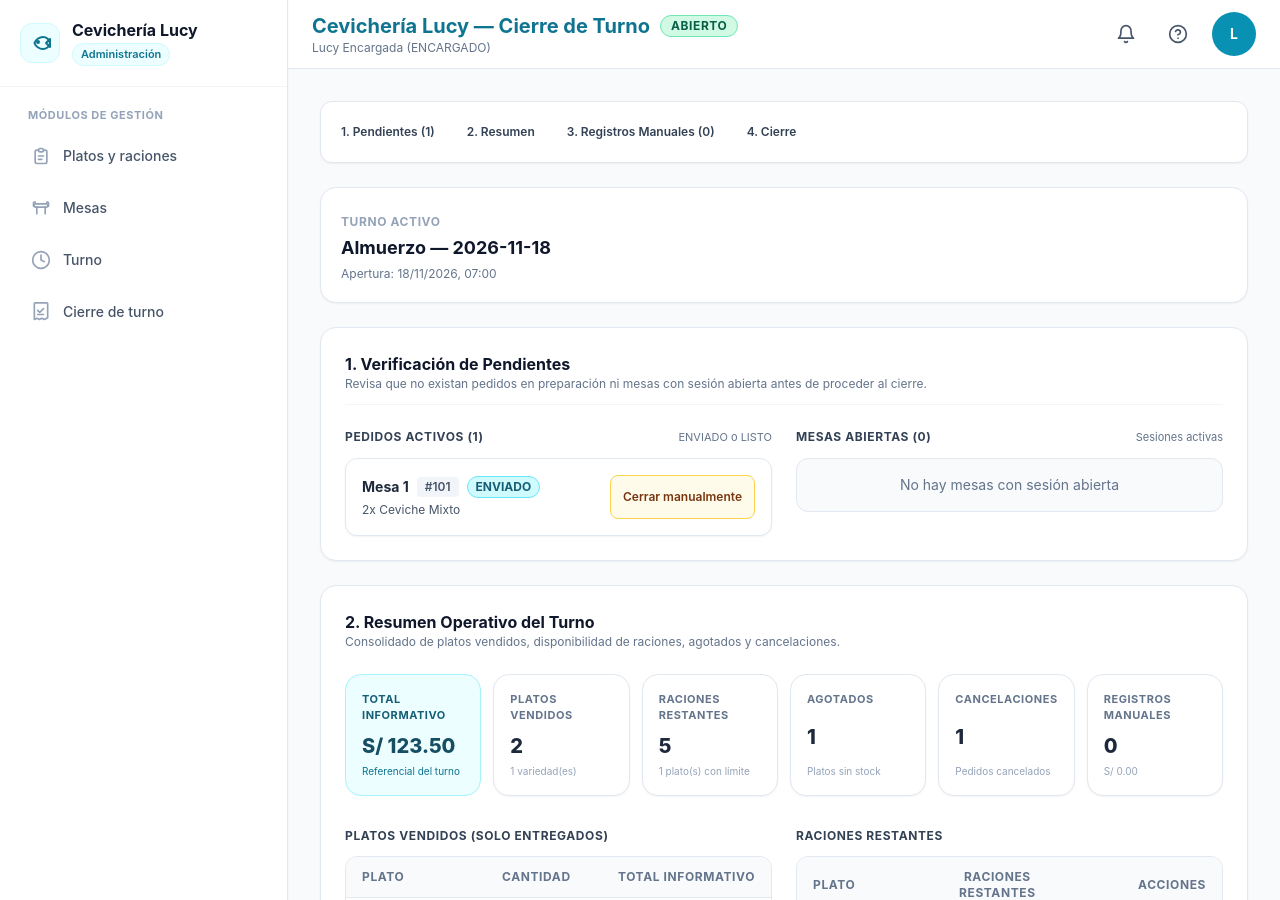
Test: Shift Close Flow (Spec 006 Frontend) › modal de cierre manual exige motivo: rechaza vacío o < 3 caracteres y confirma con motivo
Later steps or results of the test are not shown.
// Abrir modal
Click the button "Cerrar manualmente": click(682, 496) [610,474,755,518]
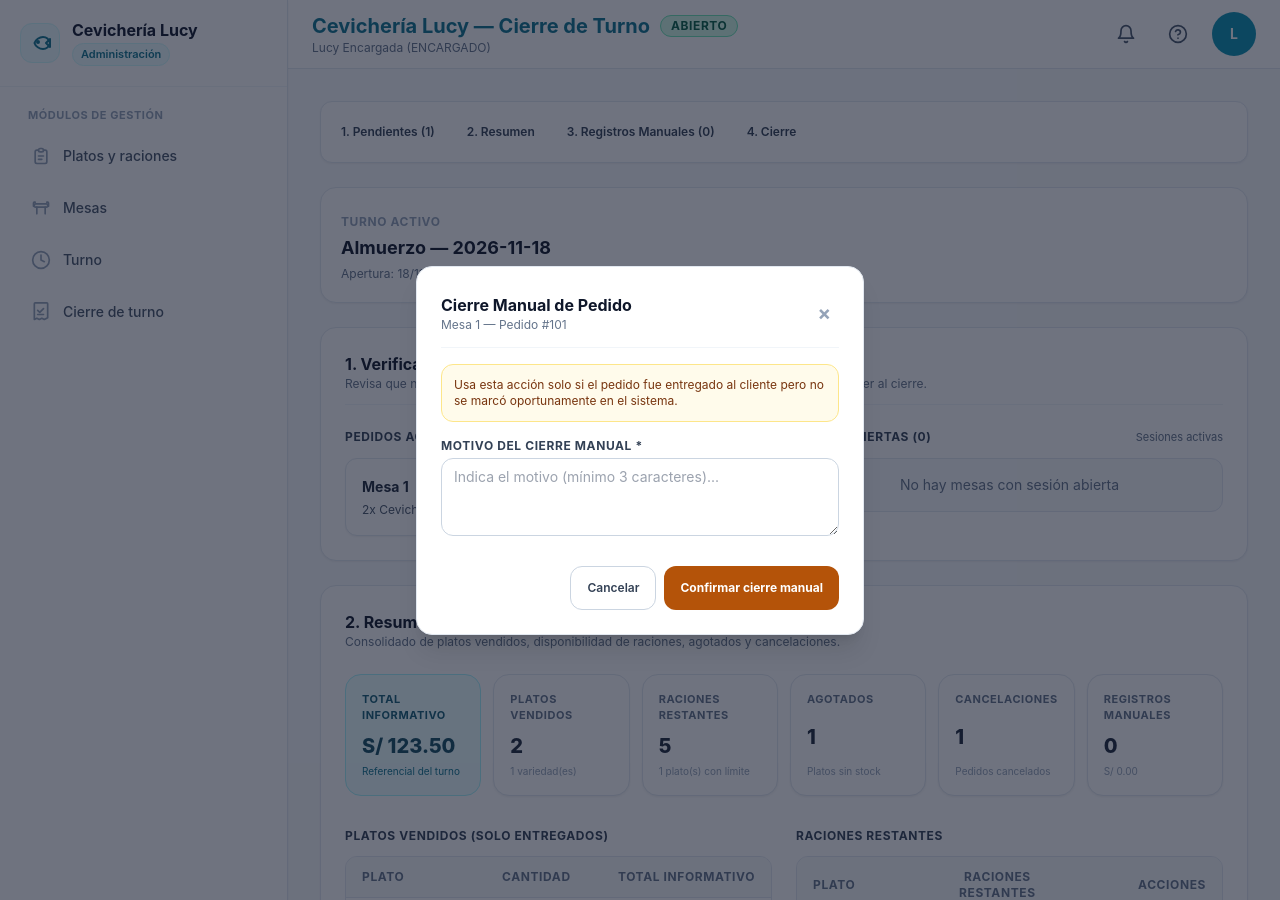
Now the heading "Cierre Manual de Pedido" is shown, box [441,292,632,316]
In the text box labelled "Motivo del cierre manual *": (640, 496) [441,458,839,536], type "ok"
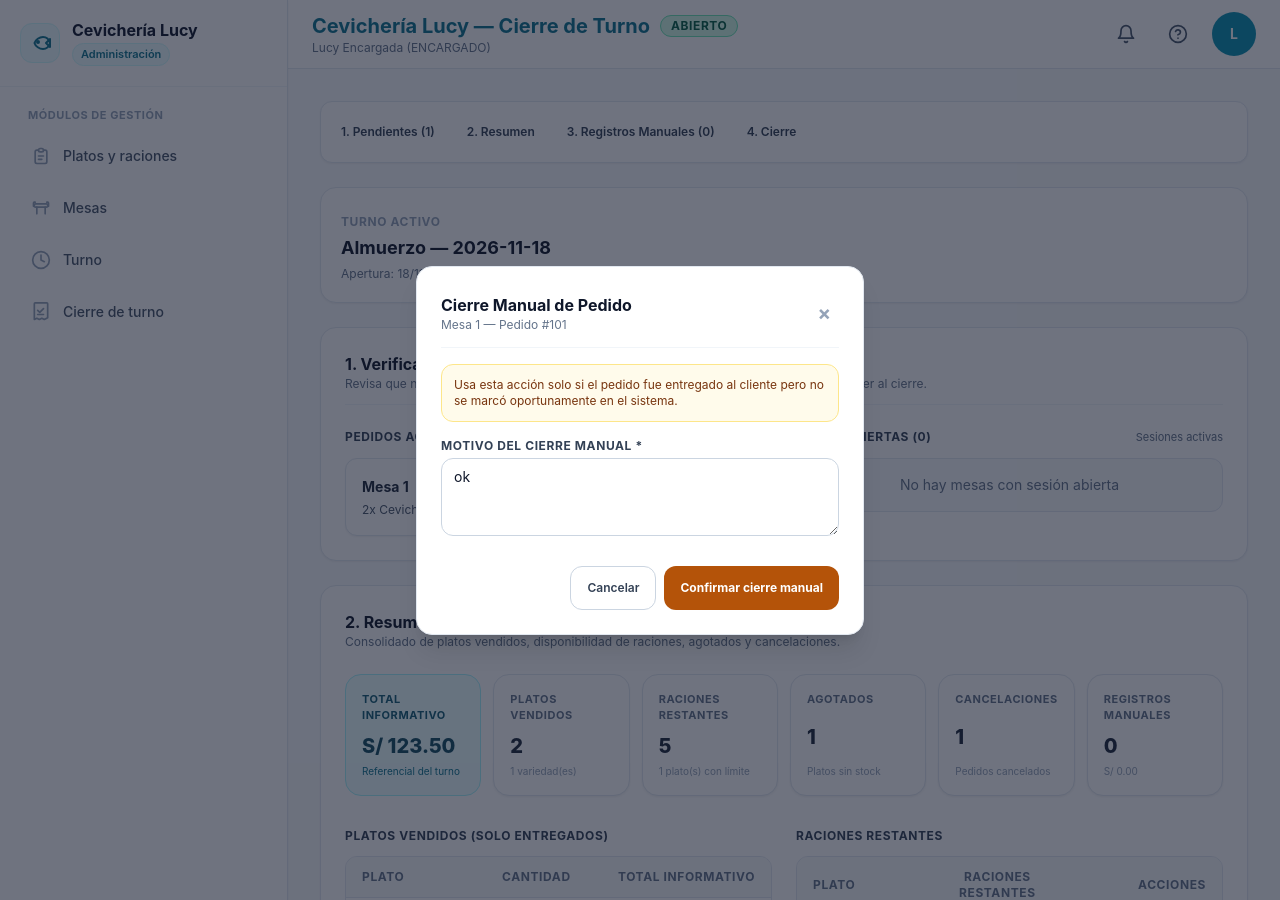
Click the button "Confirmar cierre manual": click(752, 588) [664,566,839,610]
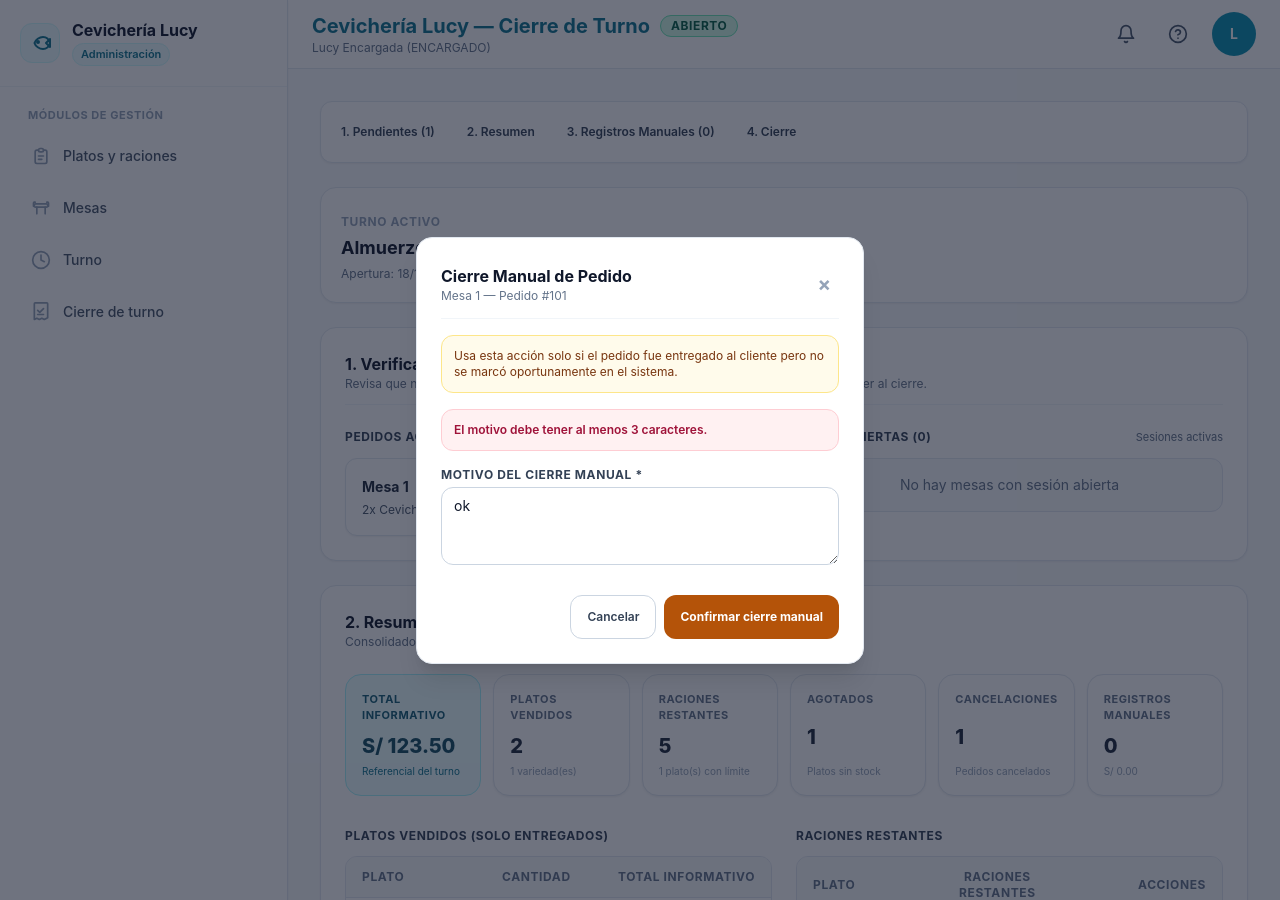
Now the text "El motivo debe tener al menos 3 caracteres." is shown, box [441,408,839,450]
